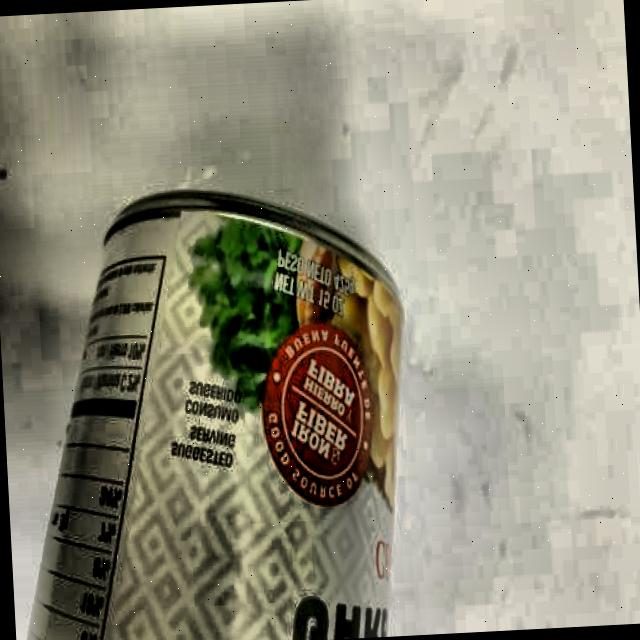metal: (0, 179, 420, 640)
